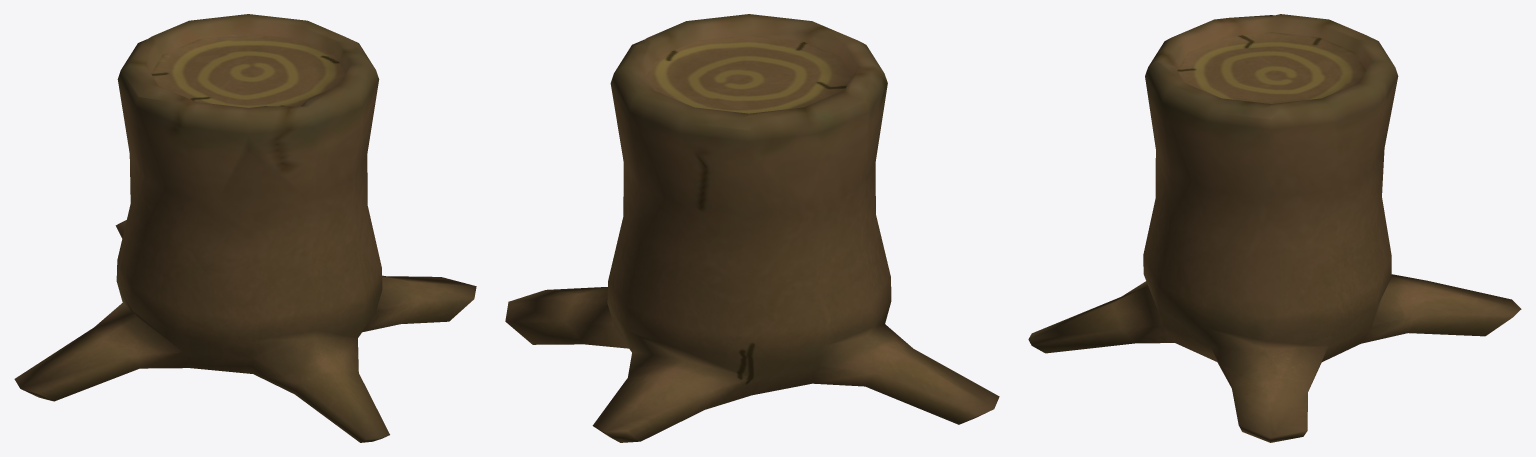
File: billet_desk.fbx
3 views of the same model, side by side, from view 1: azimuth 30°, elevation 25°; view 2: azimuth 150°, elevation 25°; view 3: azimuth 270°, elevation 25° (orthographic). The views are drawn at different scales.
Parts seen in each view (by area): view 1: billet_desk; view 2: billet_desk; view 3: billet_desk.
Boxes of the visible parts, x1,y1,x2,y2 form: billet_desk: (14, 14, 476, 442); billet_desk: (505, 14, 999, 442); billet_desk: (1028, 14, 1521, 442).
Bounding box in the file's own units: 246 × 152 × 237.
